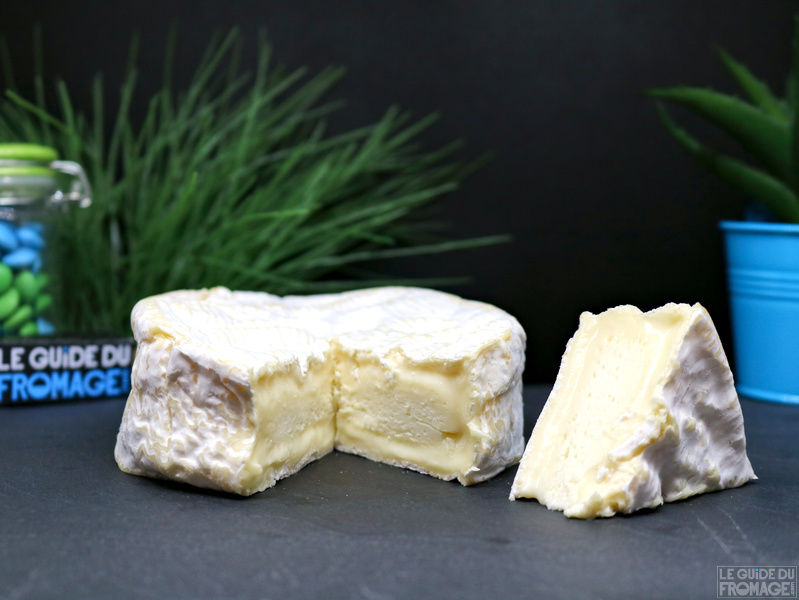camembert: (110, 286, 528, 516), (508, 303, 761, 522)
